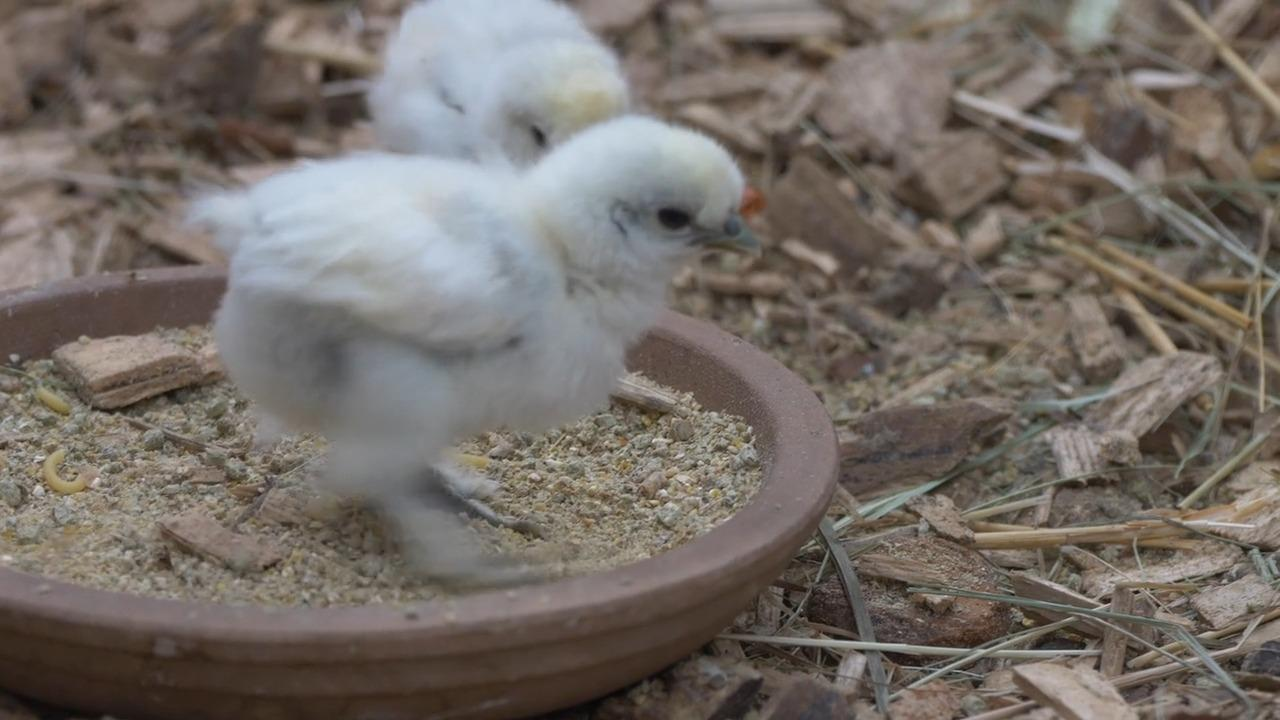Normal: (189, 96, 748, 541)
